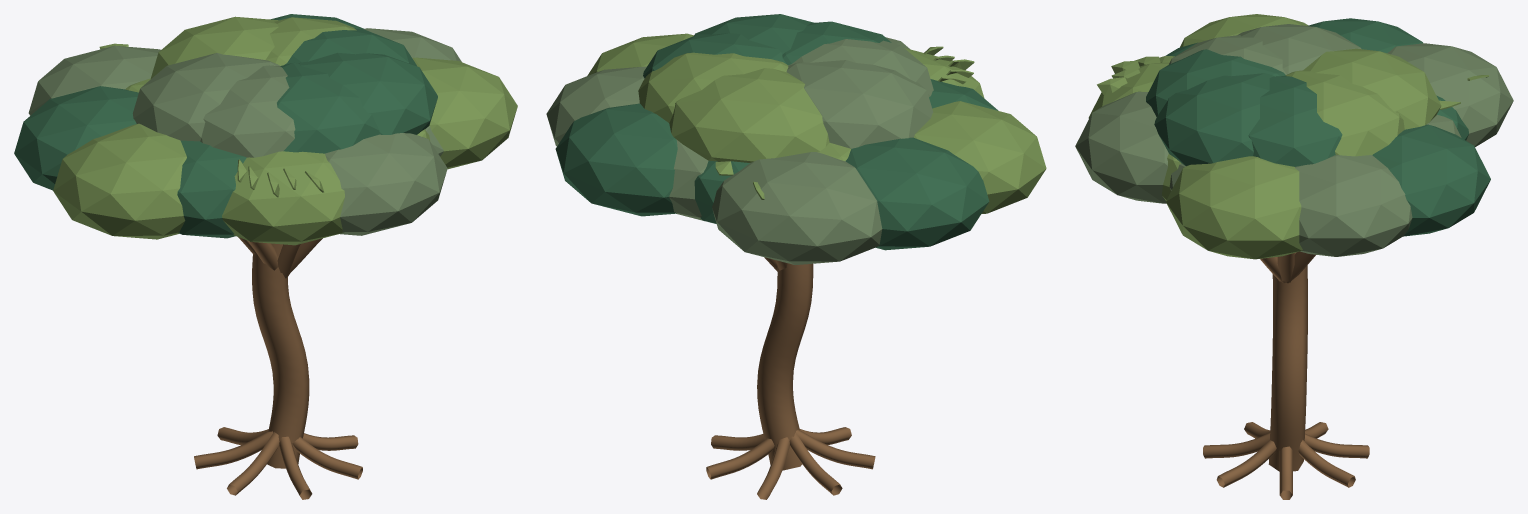
File: umbrella_tree.glb
3 renders of one model, left to right at view 1: azimuth 30°, elevation 25°; view 2: azimuth 150°, elevation 25°; view 3: azimuth 270°, elevation 25°, orthographic. The views are drawn at different scales.
Parts seen in each view (by area): view 1: CanopyCrown, TreeTrunk; view 2: CanopyCrown, TreeTrunk; view 3: CanopyCrown, TreeTrunk.
Part boxes in pixels (bbox=[...]): CanopyCrown: bbox=[14, 14, 517, 245]; TreeTrunk: bbox=[194, 237, 362, 499]; CanopyCrown: bbox=[546, 14, 1046, 264]; TreeTrunk: bbox=[706, 257, 875, 499]; CanopyCrown: bbox=[1075, 14, 1513, 259]; TreeTrunk: bbox=[1203, 251, 1369, 499].
Size of the model in its own units: 3.58 by 3.23 by 3.19.
